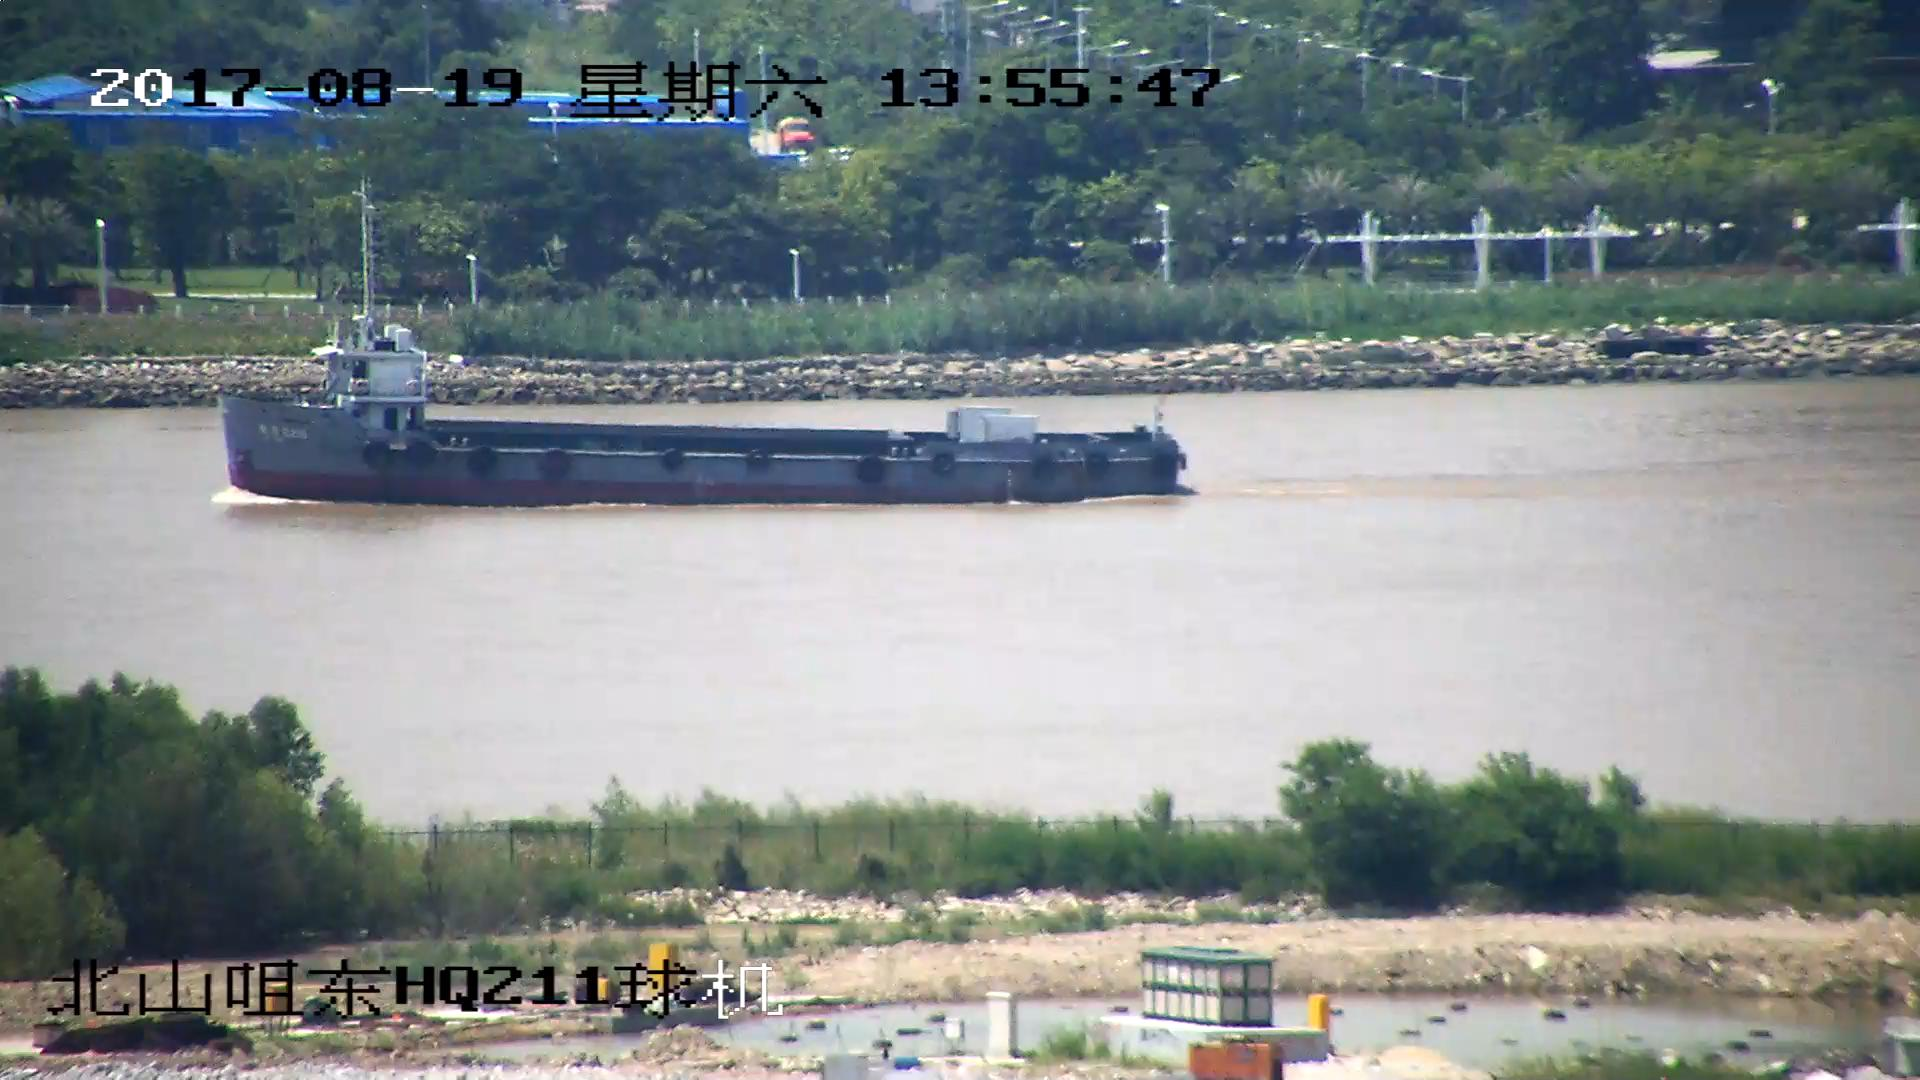general cargo ship: (225, 324, 1178, 505)
